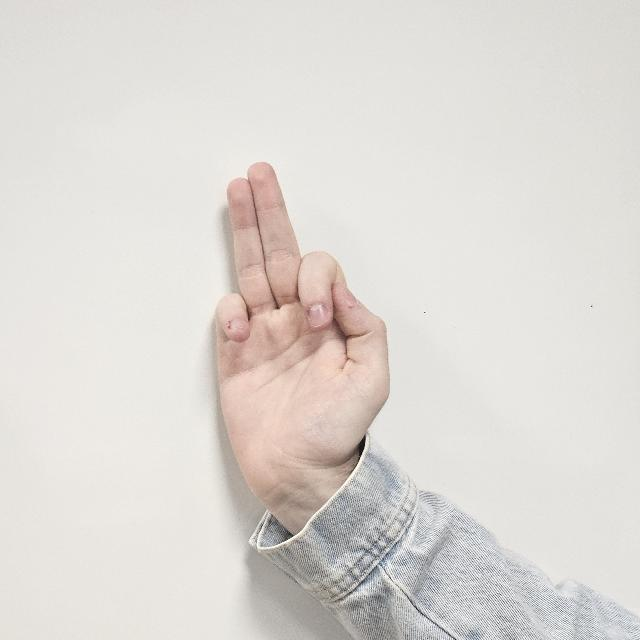R: (206, 162, 392, 476)
